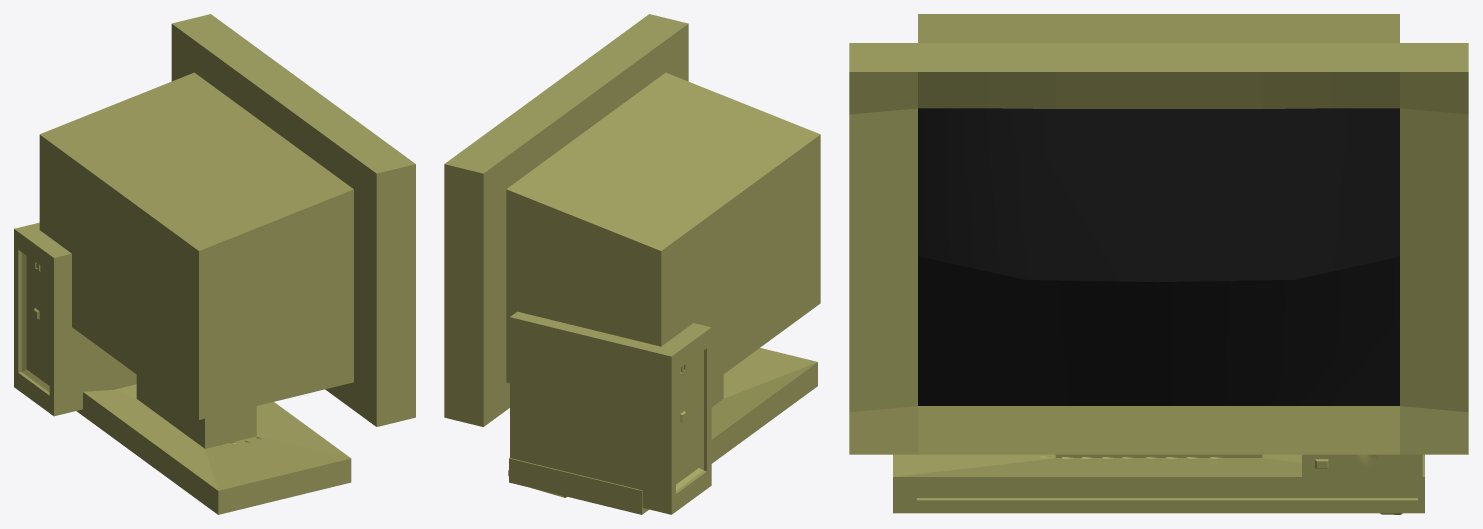
The model's file is Monitor-model.fbx.
3 views of the same model, side by side, from view 1: azimuth 30°, elevation 25°; view 2: azimuth 150°, elevation 25°; view 3: azimuth 270°, elevation 25° (orthographic). The views are drawn at different scales.
Parts seen in each view (by area): view 1: pCube6, pCube4; view 2: pCube6, pCube4; view 3: pCube6, group40_pasted__group38_pasted__pasted__group37_pasted__past, pCube4.
Part boxes in pixels (bbox=[...]): pCube6: bbox=[39, 14, 415, 514]; pCube4: bbox=[14, 222, 136, 416]; pCube6: bbox=[444, 14, 820, 514]; pCube4: bbox=[510, 311, 711, 514]; pCube6: bbox=[849, 14, 1468, 513]; group40_pasted__group38_pasted__pasted__group37_pasted__past: bbox=[917, 456, 1417, 509]; pCube4: bbox=[1302, 454, 1422, 476].
Size of the model in its own units: 42.03 by 54.85 by 63.29.
